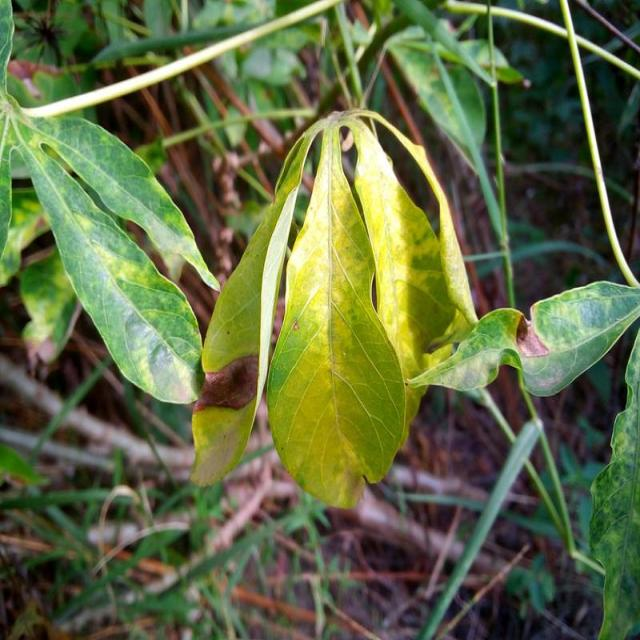cassava leaf: (193, 107, 482, 506), (6, 104, 212, 406), (264, 115, 409, 509)
